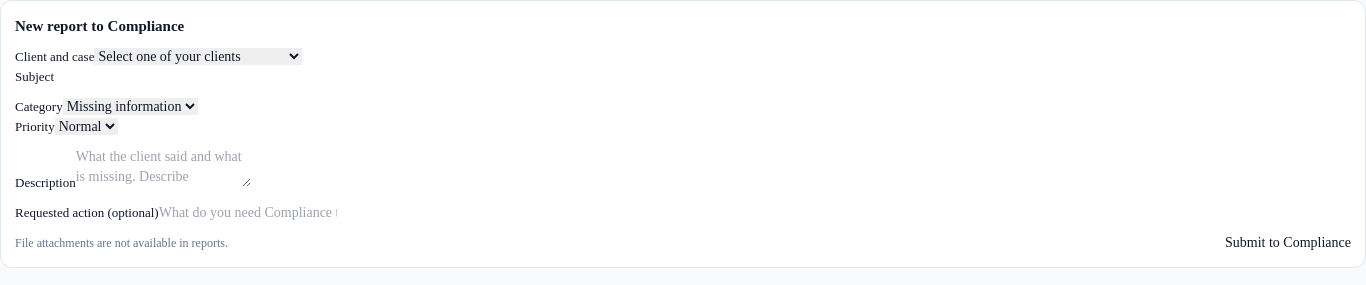
Test: a form per area: the server's field errors land on the right inputs › reports: a field error on the subject shows under Subject and nothing is sent twice
This screenshot has width=1366, height=285.
Select "Alex Morgan · CASE-2026-0042" in the dropdown labelled "Client and case" at (198, 56), box [94, 48, 302, 65]
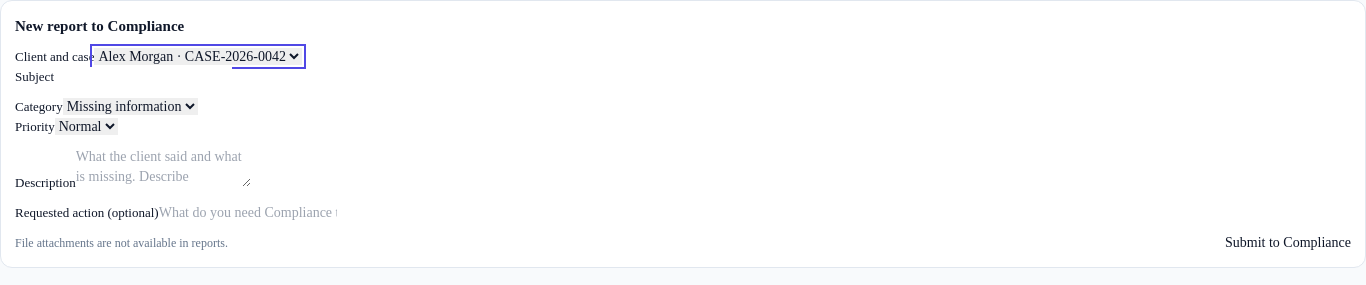
Type "Missing papers" into the field labelled "Subject" at (143, 77), box [54, 67, 232, 87]
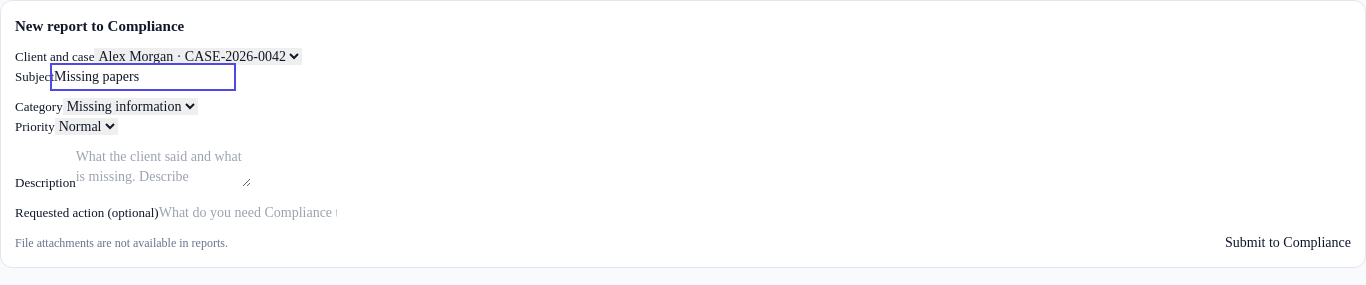
Type "The client has not sent the lease." into the text box labelled "Description" at (163, 167), box [76, 147, 251, 187]
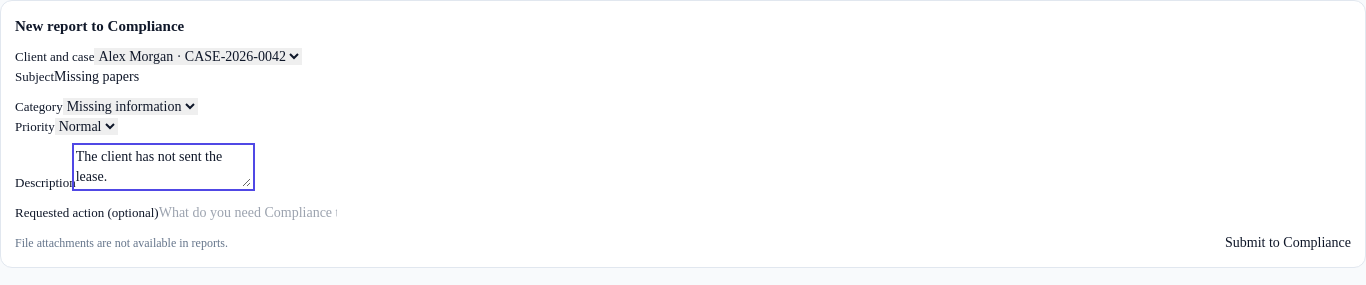
Click the button "Submit to Compliance" at (1288, 243), box [1225, 233, 1351, 253]
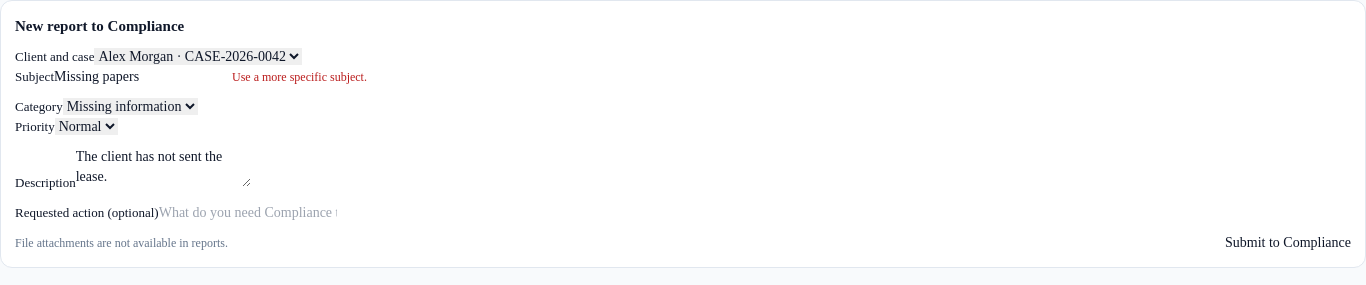
Expected: the text "Use a more specific subject." is shown, [232, 70, 367, 84]
